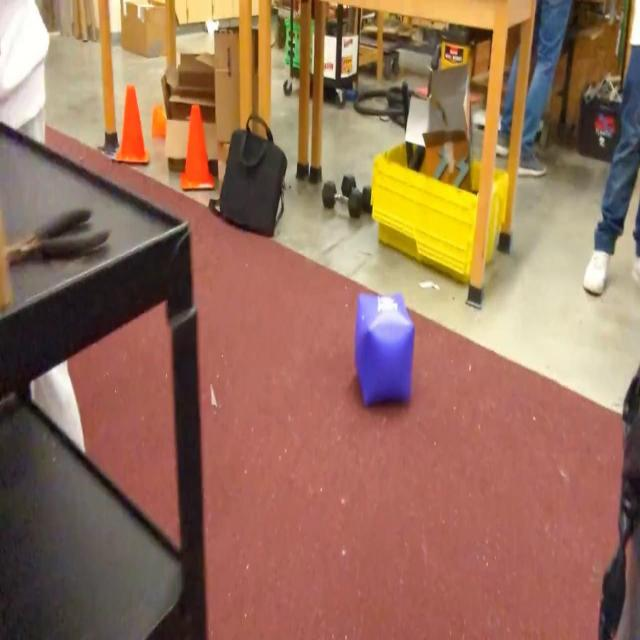frc_cube: (354, 290, 417, 412)
